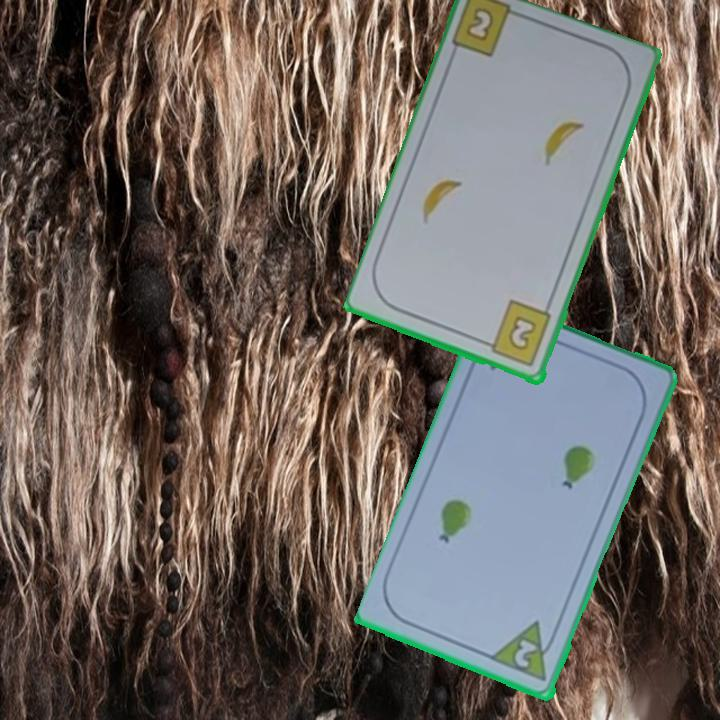2b: (480, 297, 555, 370), (462, 4, 497, 45)
2p: (489, 618, 561, 686)
